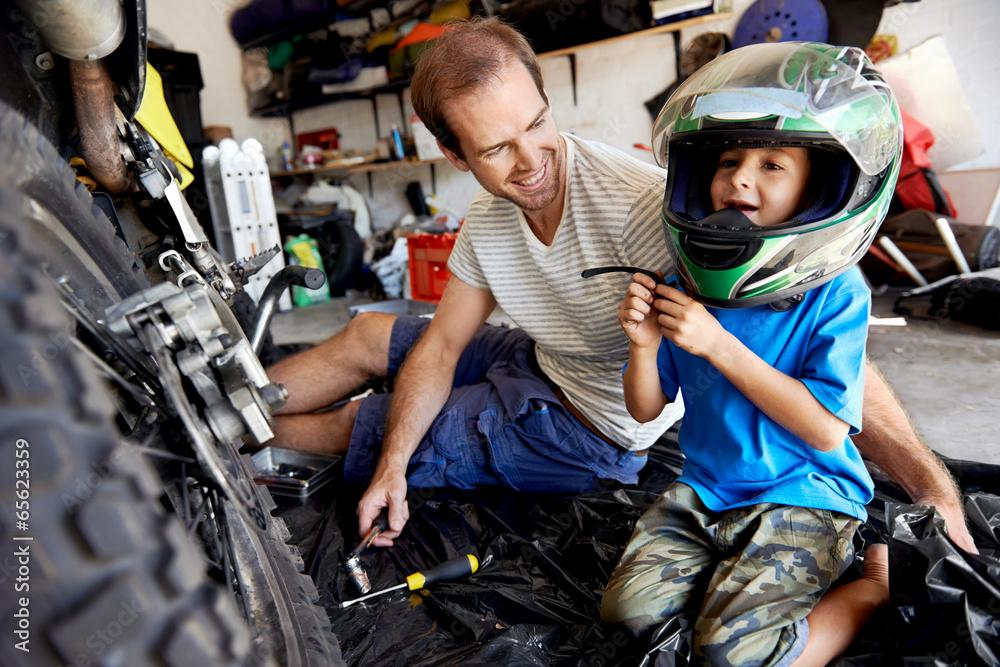helmet: (650, 39, 905, 310)
nohelmet: (409, 14, 564, 213)
